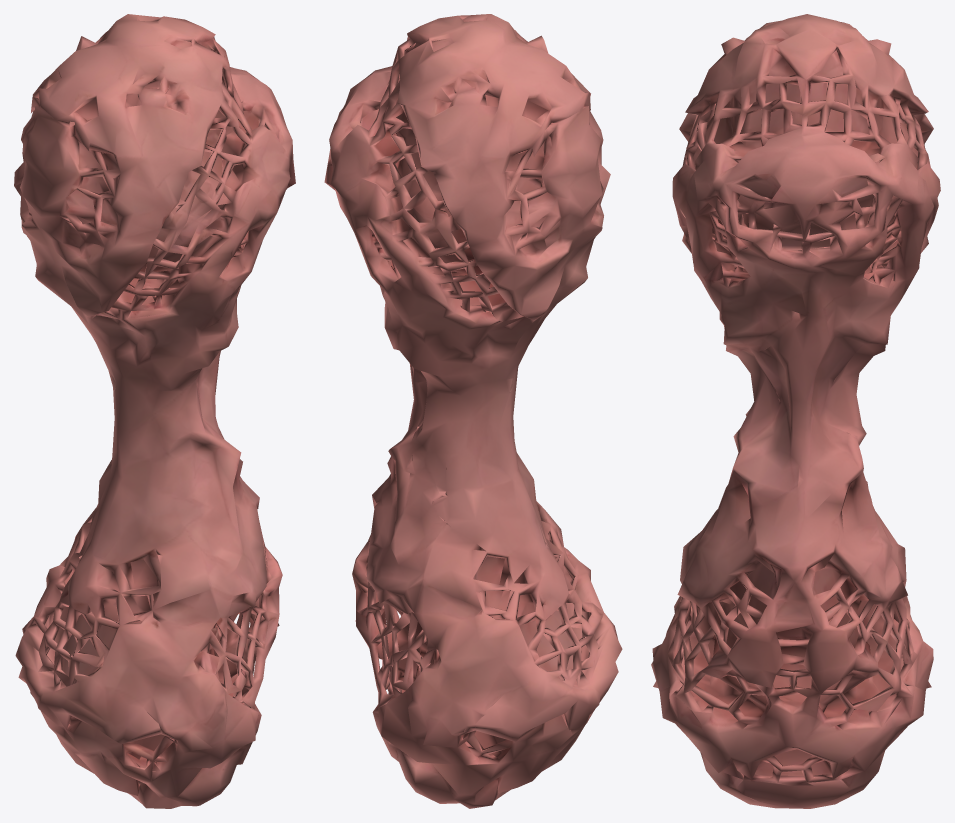
The model's file is clump-limb-lower.glb.
3 views of the same model, side by side, from view 1: azimuth 30°, elevation 25°; view 2: azimuth 150°, elevation 25°; view 3: azimuth 270°, elevation 25° (orthographic).
Visible parts, largest first — view 1: tripo_node_829b2a34-58e6-4317-87b7-dfd295de5ffc; view 2: tripo_node_829b2a34-58e6-4317-87b7-dfd295de5ffc; view 3: tripo_node_829b2a34-58e6-4317-87b7-dfd295de5ffc.
Boxes of the visible parts, x1,y1,x2,y2 form: tripo_node_829b2a34-58e6-4317-87b7-dfd295de5ffc: (14, 14, 295, 808); tripo_node_829b2a34-58e6-4317-87b7-dfd295de5ffc: (324, 14, 622, 808); tripo_node_829b2a34-58e6-4317-87b7-dfd295de5ffc: (651, 14, 940, 808).
Size of the model in its own units: 0.3214 by 0.9801 by 0.3297.
1 material, 1 textured.
